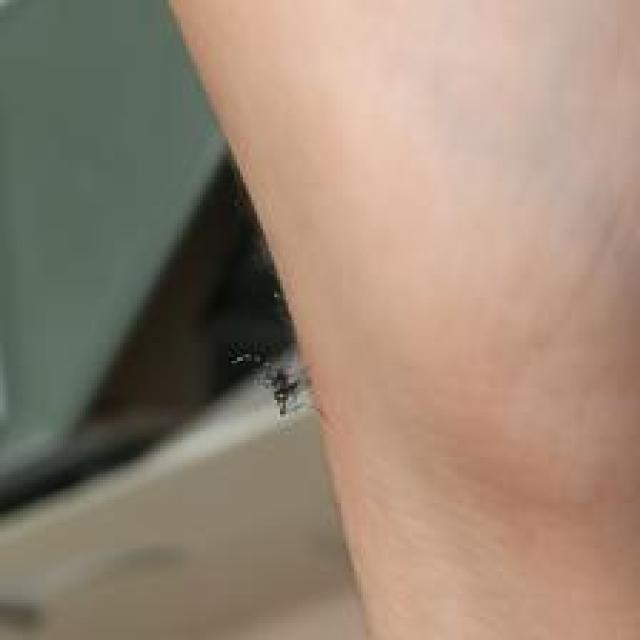Aedes albopictus: (0, 0, 308, 534)
